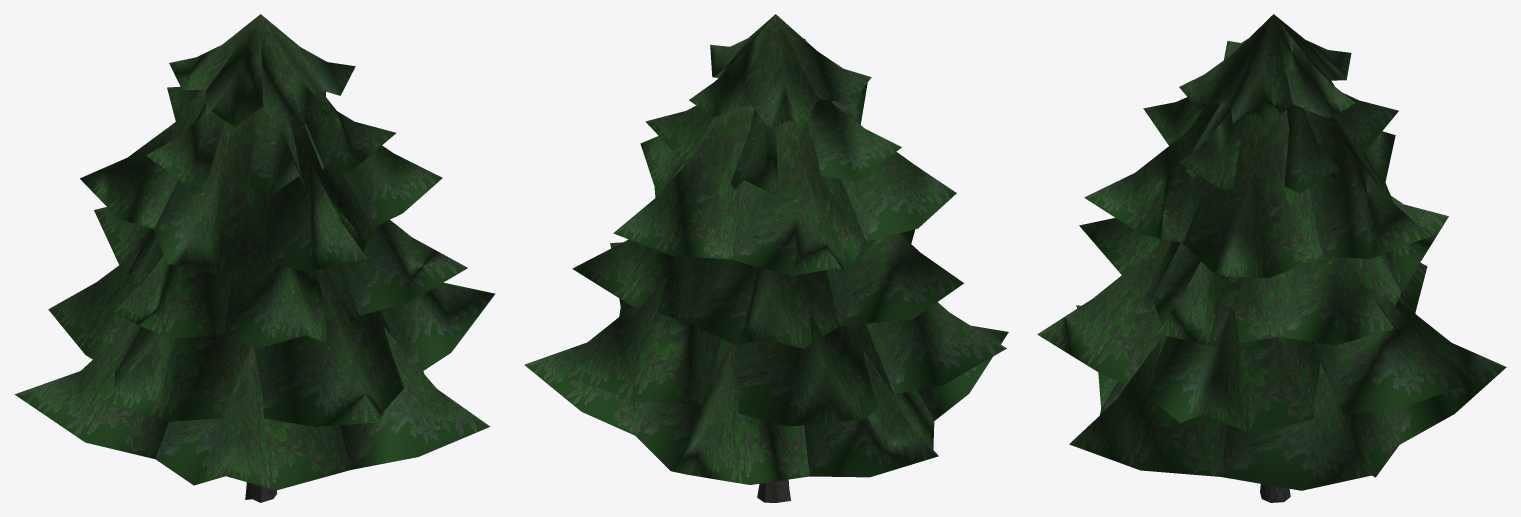
The model's file is tree.fbx.
3 renders of one model, left to right at view 1: azimuth 30°, elevation 25°; view 2: azimuth 150°, elevation 25°; view 3: azimuth 270°, elevation 25°, orthographic.
Visible parts, largest first — view 1: U3DMesh; view 2: U3DMesh; view 3: U3DMesh.
Boxes of the visible parts, <box> form: U3DMesh: <box>14,14,495,502</box>; U3DMesh: <box>524,14,1008,502</box>; U3DMesh: <box>1037,14,1506,502</box>.
Bounding box in the file's own units: 197 × 223 × 197.
